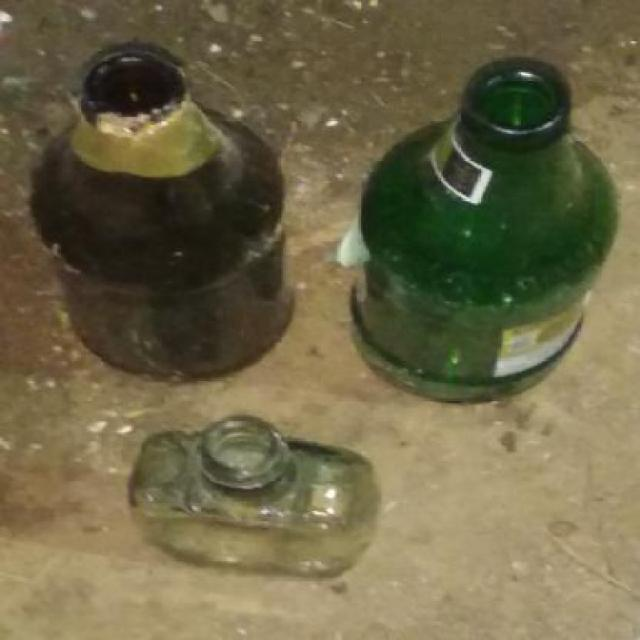garbage: (37, 45, 627, 605)
